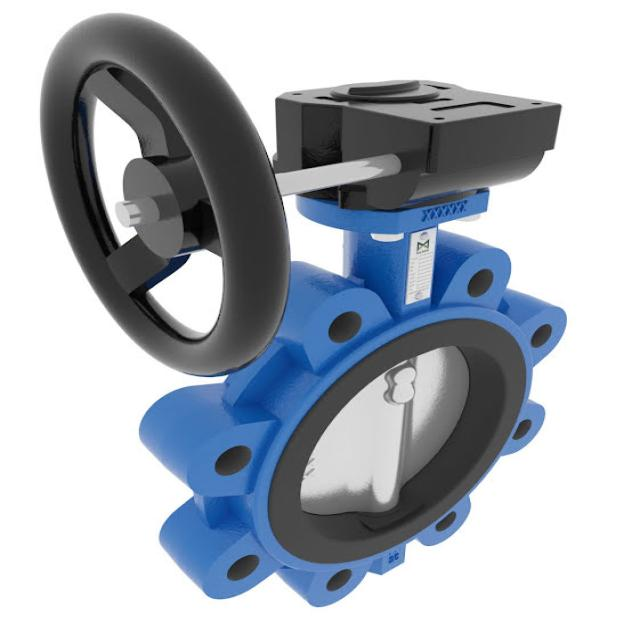Wheel Handle Valve Threaded: (29, 4, 291, 399)
